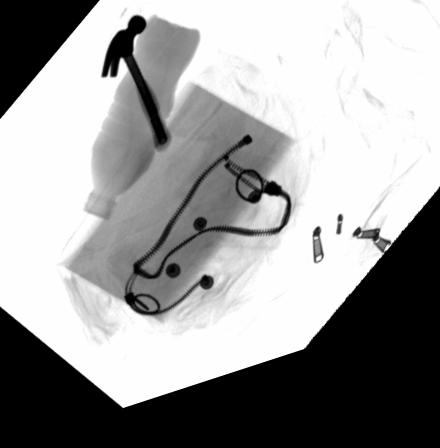Hammer: (100, 22, 175, 164)
